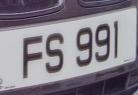1: (110, 18, 123, 62)
9: (74, 20, 95, 74), (93, 20, 112, 64)
F: (19, 28, 48, 84)
S: (43, 27, 68, 79)
